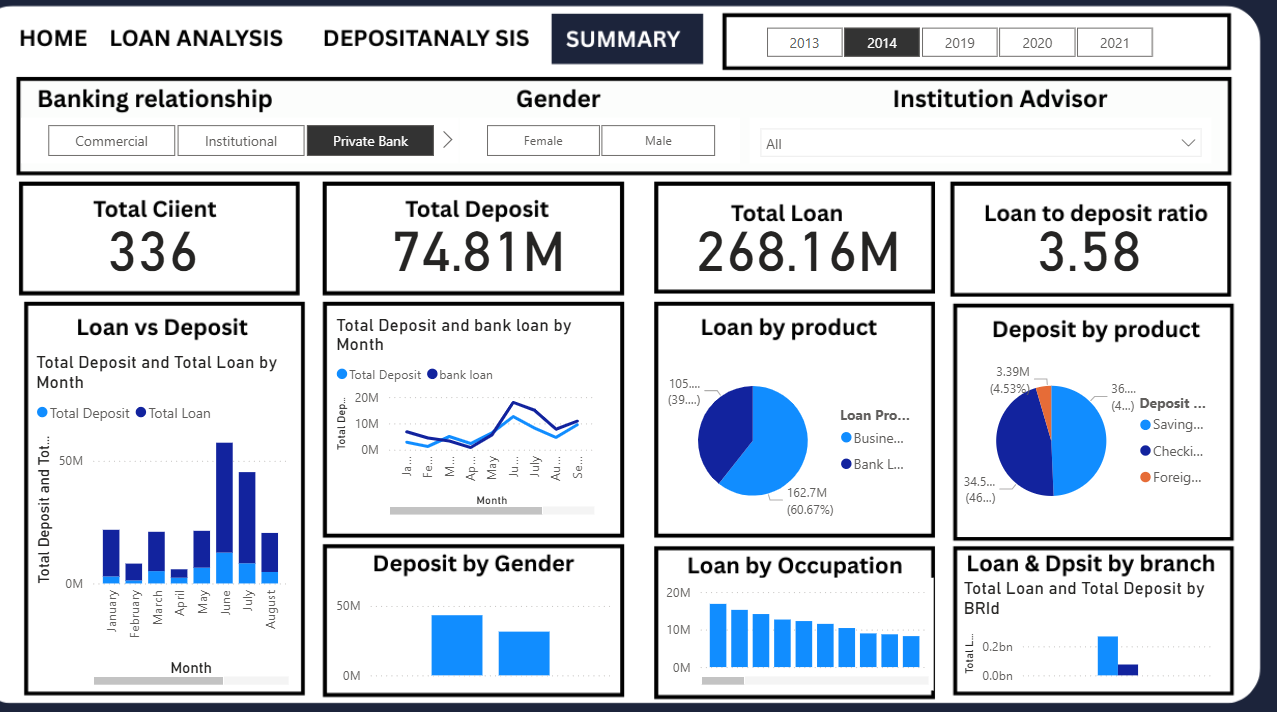

The dashboard page shown, as its layout file describes it:
{"tool":"powerbi","page":{"name":"Summary","canvas":[1280,720],"ordinal":4},"visuals":[{"type":"card","fields":{"Values":["CountNonNull(Banking.Client ID)"]},"box":[72.7,237.4,236,57.6],"z":0},{"type":"slicer","fields":{"Values":["Banking.BRId"]},"box":[63.1,134.5,422.6,43.9],"z":1000},{"type":"slicer","fields":{"Values":["Banking.GenderId"]},"box":[485.8,134.5,270.3,43.9],"z":2000},{"type":"slicer","fields":{"Values":["Banking.IAId"]},"box":[765.7,134.5,446,43.9],"z":3000},{"type":"card","fields":{"Values":["Banking.Total Deposit"]},"box":[385.6,237.4,236,57.6],"z":4000},{"type":"card","fields":{"Values":["Banking.Loan_to_Dpst_ratio"]},"box":[975.6,237.4,236,57.6],"z":5000},{"type":"columnChart","fields":{"Category":["Banking.Joined Bank.Variation.Date Hierarchy.Month"],"Y":["Banking.Total Deposit","Banking.Total Loan"]},"box":[72.7,359.5,253.9,326.6],"z":6000},{"type":"pieChart","fields":{"Category":["Banking.Deposit Product"],"Y":["Sum(Banking.Amount)"]},"box":[967.4,359.5,252.5,172.9],"z":7000},{"type":"card","fields":{"Values":["Banking.Total Loan"]},"box":[694.3,237.4,236,57.6],"z":8000},{"type":"pieChart","fields":{"Category":["Banking.Loan Product"],"Y":["Sum(Banking.Amount of loan product)"]},"box":[680.6,359.5,249.7,172.9],"z":9000},{"type":"columnChart","fields":{"Category":["Banking.GenderId"],"Y":["Banking.Total Deposit"]},"box":[362.3,577.7,277.2,108.4],"z":10000},{"type":"columnChart","fields":{"Category":["Banking.Occupation"],"Y":["Banking.Total Loan"]},"box":[680.6,577.7,263.5,108.4],"z":11000},{"type":"clusteredColumnChart","fields":{"Category":["Banking.BRId"],"Y":["Banking.Total Loan","Banking.Total Deposit"]},"box":[967.4,577.7,252.5,108.4],"z":12000},{"type":"slicer","fields":{"Values":["Banking.year_of_joining"]},"box":[756.1,39.8,422.6,42.5],"z":13000},{"type":"lineChart","fields":{"Category":["Banking.Joined Bank.Variation.Date Hierarchy.Month"],"Y":["Banking.Total Deposit","Banking.bank loan"]},"box":[362.3,323.8,259.3,199],"z":14000},{"type":"actionButton","box":[345.8,39.8,214.1,39.8],"z":15000},{"type":"actionButton","box":[131.7,42.5,214.1,39.8],"z":16000},{"type":"actionButton","box":[48,39.8,83.7,39.8],"z":17000}]}

Visuals, with their boxes in screenshot pixels (x1, y1, x2, y2), scaled from the page's 1280x720 canvas onto the 1277x712 screenshot:
card - CountNonNull(Banking.Client ID): [x1=73, y1=235, x2=308, y2=292]
slicer - Banking.BRId: [x1=63, y1=133, x2=485, y2=176]
slicer - Banking.GenderId: [x1=485, y1=133, x2=754, y2=176]
slicer - Banking.IAId: [x1=764, y1=133, x2=1209, y2=176]
card - Banking.Total Deposit: [x1=385, y1=235, x2=620, y2=292]
card - Banking.Loan_to_Dpst_ratio: [x1=973, y1=235, x2=1209, y2=292]
columnChart - Banking.Joined Bank.Variation.Date Hierarchy.Month x Banking.Total Deposit: [x1=73, y1=356, x2=326, y2=678]
pieChart - Banking.Deposit Product x Sum(Banking.Amount): [x1=965, y1=356, x2=1217, y2=526]
card - Banking.Total Loan: [x1=693, y1=235, x2=928, y2=292]
pieChart - Banking.Loan Product x Sum(Banking.Amount of loan product): [x1=679, y1=356, x2=928, y2=526]
columnChart - Banking.GenderId x Banking.Total Deposit: [x1=361, y1=571, x2=638, y2=678]
columnChart - Banking.Occupation x Banking.Total Loan: [x1=679, y1=571, x2=942, y2=678]
clusteredColumnChart - Banking.BRId x Banking.Total Loan: [x1=965, y1=571, x2=1217, y2=678]
slicer - Banking.year_of_joining: [x1=754, y1=39, x2=1176, y2=81]
lineChart - Banking.Joined Bank.Variation.Date Hierarchy.Month x Banking.Total Deposit: [x1=361, y1=320, x2=620, y2=517]
actionButton: [x1=345, y1=39, x2=559, y2=79]
actionButton: [x1=131, y1=42, x2=345, y2=81]
actionButton: [x1=48, y1=39, x2=131, y2=79]
